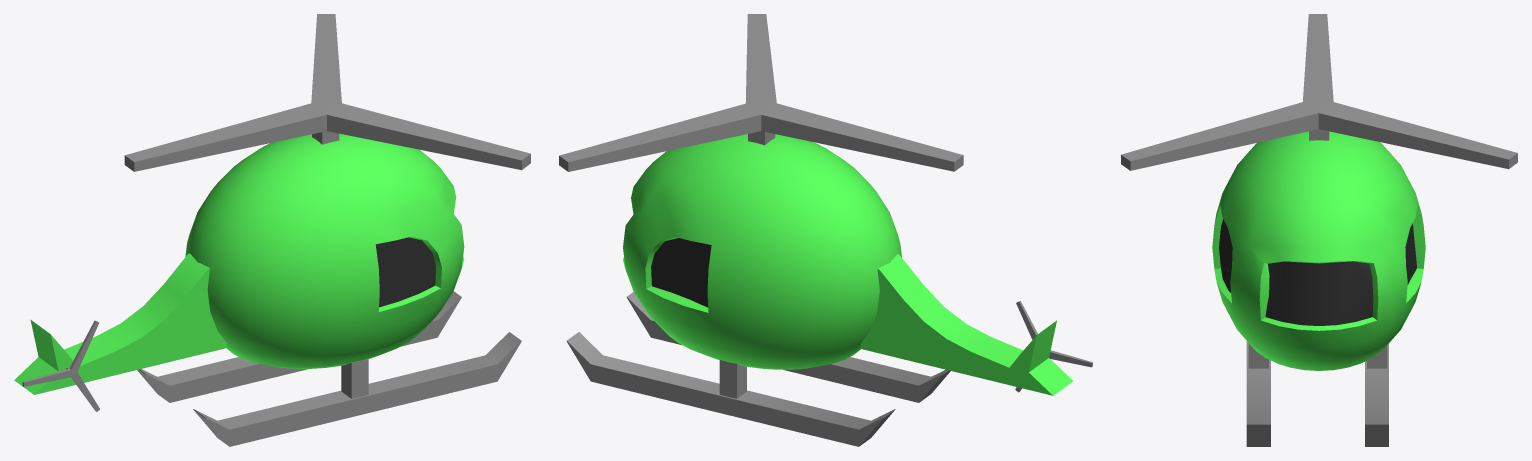
Rendered from Helicopter.fbx.
3 renders of one model, left to right at view 1: azimuth 30°, elevation 25°; view 2: azimuth 150°, elevation 25°; view 3: azimuth 270°, elevation 25°, orthographic.
Parts seen in each view (by area): view 1: helicoptero, helicoptero.001, helicoptero.002; view 2: helicoptero, helicoptero.001, helicoptero.002; view 3: helicoptero, helicoptero.001.
Part boxes in pixels (<box>): helicoptero: <box>14,133,521,446</box>; helicoptero.001: <box>124,14,530,171</box>; helicoptero.002: <box>22,320,99,411</box>; helicoptero: <box>566,134,1072,446</box>; helicoptero.001: <box>559,14,963,171</box>; helicoptero.002: <box>1015,301,1092,392</box>; helicoptero: <box>1212,131,1425,446</box>; helicoptero.001: <box>1121,14,1517,170</box>.
Size of the model in its own units: 40.44 by 22.8 by 29.65.
